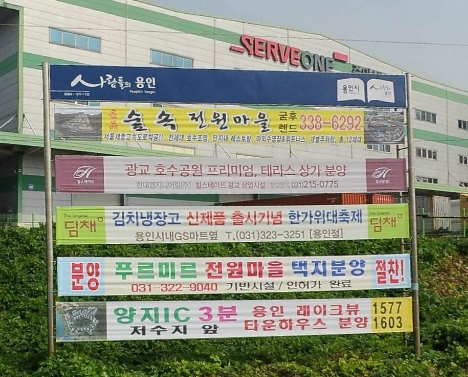banner: (43, 290, 422, 350), (48, 92, 413, 151), (33, 145, 422, 196), (43, 246, 420, 294), (42, 202, 418, 243)
